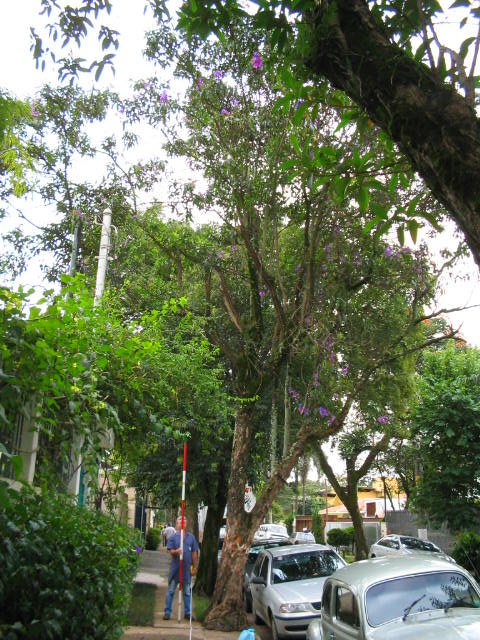stem: (199, 507, 264, 629)
stick: (174, 439, 193, 623)
tree: (128, 35, 470, 628)
